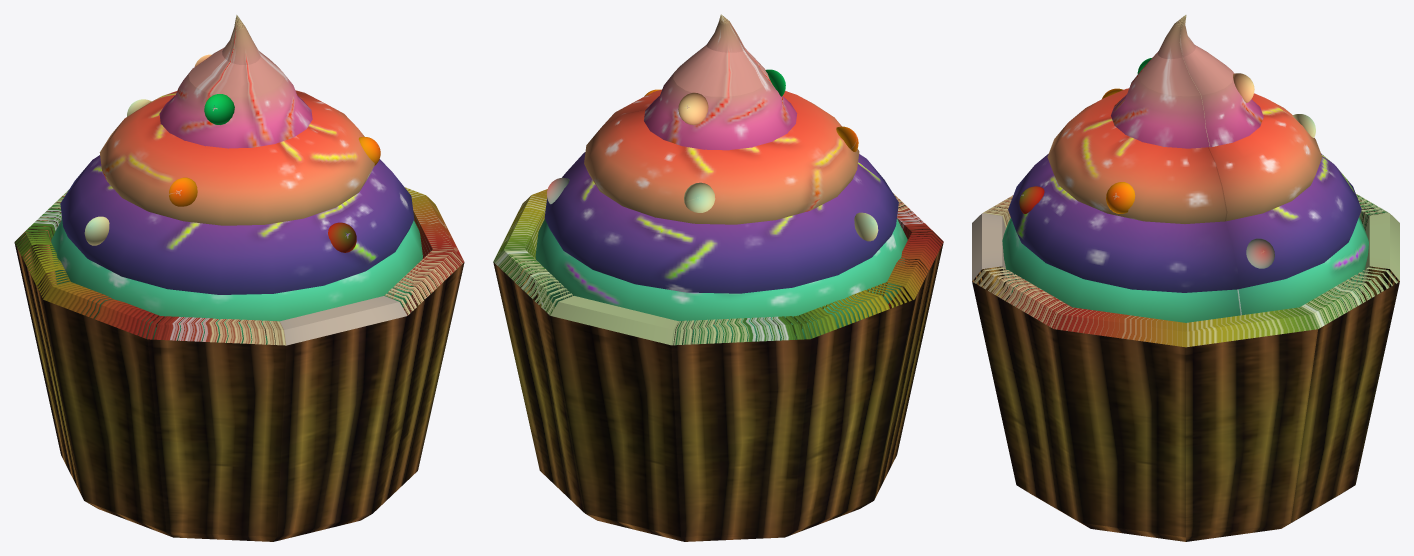
Rendered from Cupcake001.fbx.
The picture shows the model from 3 angles, left to right: view 1: azimuth 30°, elevation 25°; view 2: azimuth 150°, elevation 25°; view 3: azimuth 270°, elevation 25°; orthographic projection.
Parts seen in each view (by area): view 1: Cupcake001; view 2: Cupcake001; view 3: Cupcake001.
Boxes of the visible parts, x1,y1,x2,y2 form: Cupcake001: (14,15,464,541); Cupcake001: (493,14,943,541); Cupcake001: (972,15,1399,541).
Size of the model in its own units: 13.11 by 14.73 by 12.46.
